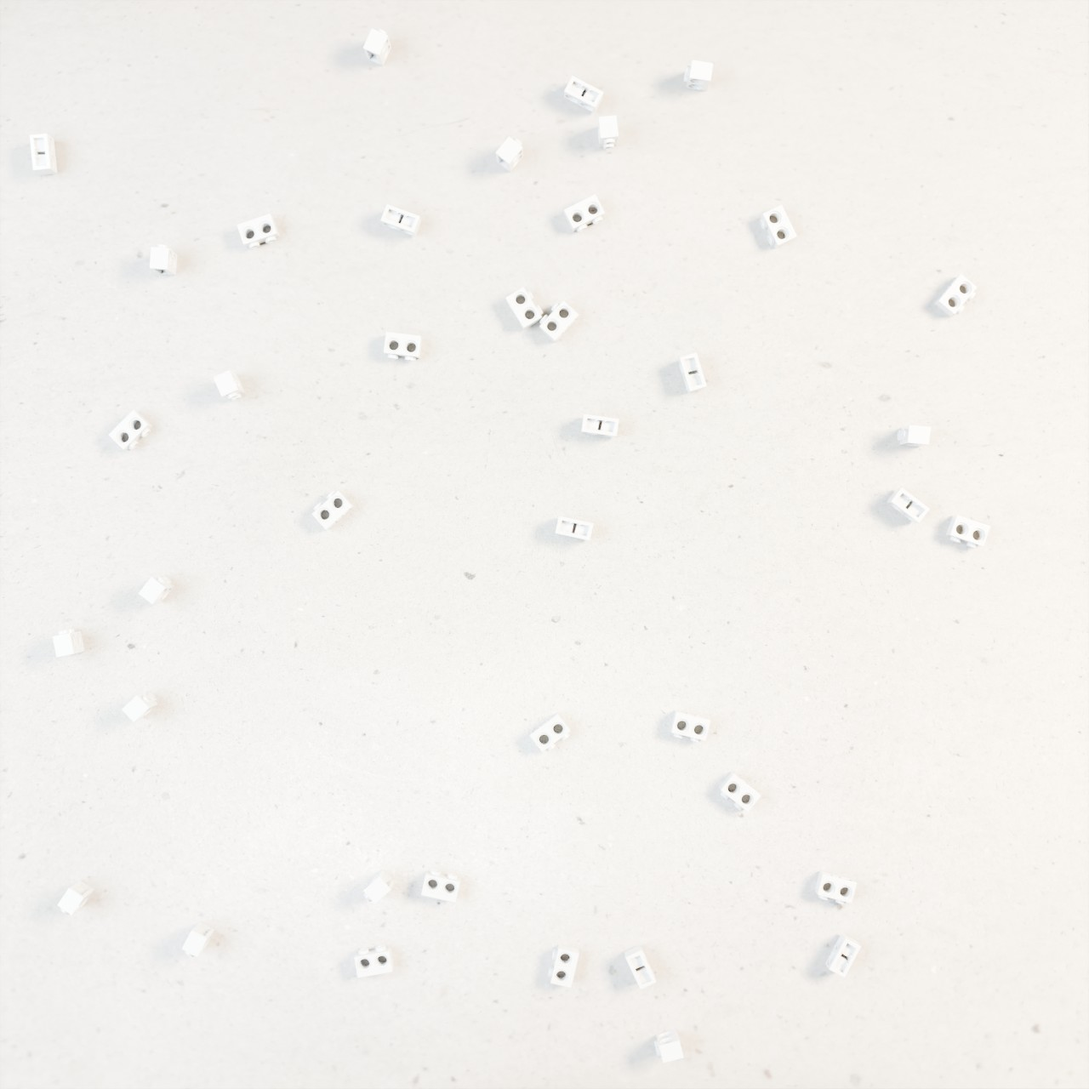lego: (934, 274, 977, 317), (108, 410, 153, 451), (719, 771, 761, 812), (539, 300, 579, 343), (312, 490, 354, 530), (505, 287, 543, 330), (760, 205, 797, 249), (825, 933, 861, 978), (530, 712, 570, 752), (886, 487, 930, 523), (564, 194, 605, 232), (237, 213, 280, 249), (946, 515, 991, 549), (564, 76, 604, 114), (814, 870, 857, 905), (624, 945, 657, 990), (548, 944, 579, 988), (421, 869, 461, 903), (381, 204, 422, 237), (670, 710, 711, 743), (354, 945, 394, 978), (57, 880, 94, 915), (182, 921, 215, 958), (678, 352, 707, 394), (121, 691, 158, 723), (29, 133, 57, 175), (384, 332, 423, 361), (363, 28, 392, 66), (363, 869, 394, 904), (138, 575, 174, 605), (495, 136, 523, 173), (654, 1029, 684, 1063), (213, 370, 245, 401), (555, 516, 594, 541), (52, 628, 85, 657), (581, 414, 619, 438), (684, 60, 713, 91), (150, 244, 177, 276), (597, 115, 619, 149), (897, 425, 931, 447)
